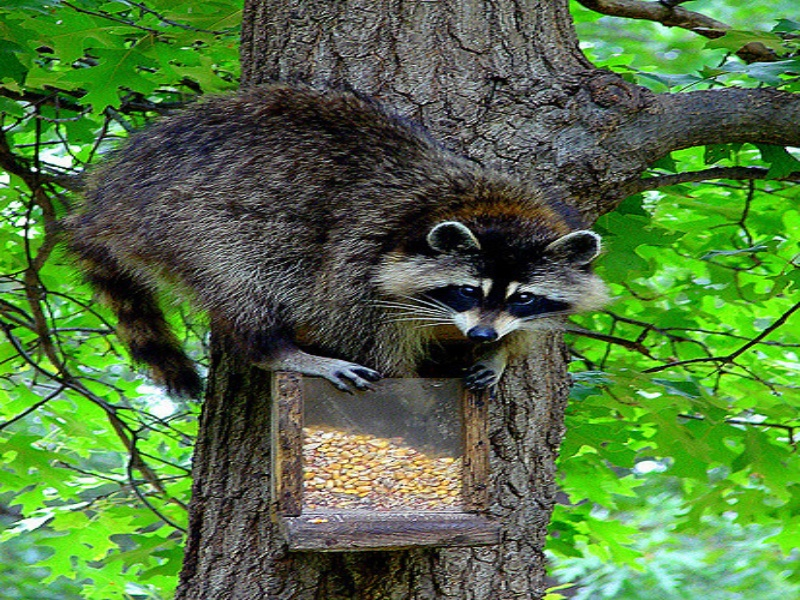raccoon: (58, 79, 615, 405)
